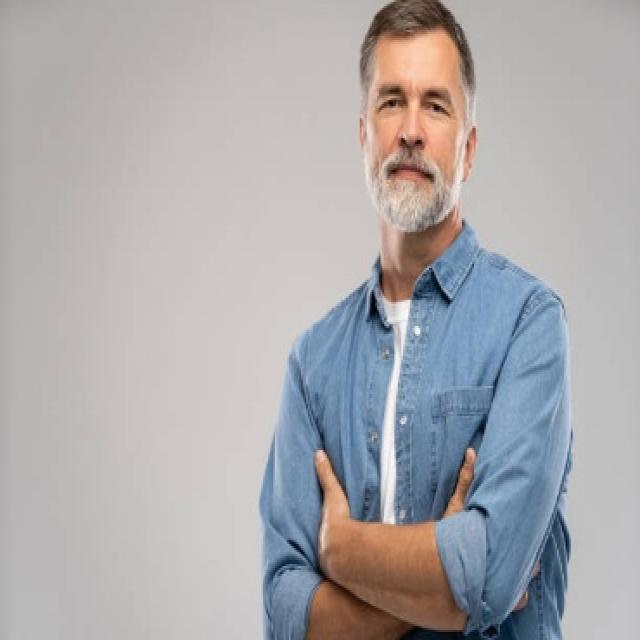adult: (252, 0, 571, 640)
